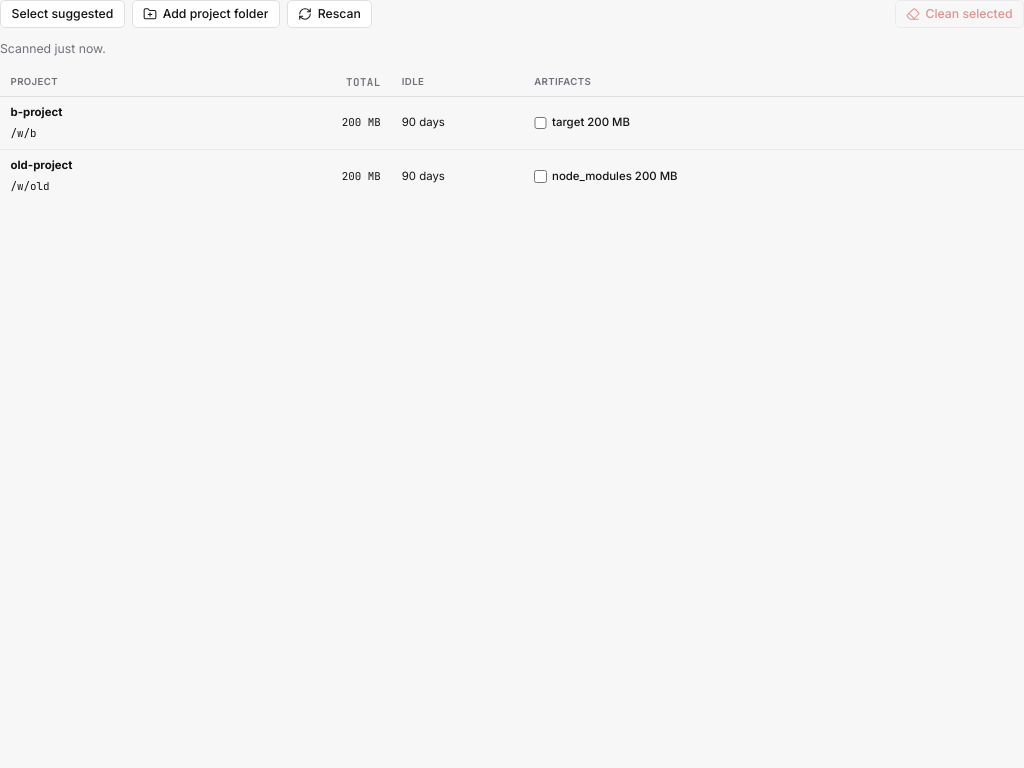
Test: after a clean › a rescanning tab saves the new scan
Click the checkbox labelled "node_modules 200 MB".
click(540, 176)  # box [534,170,547,183]
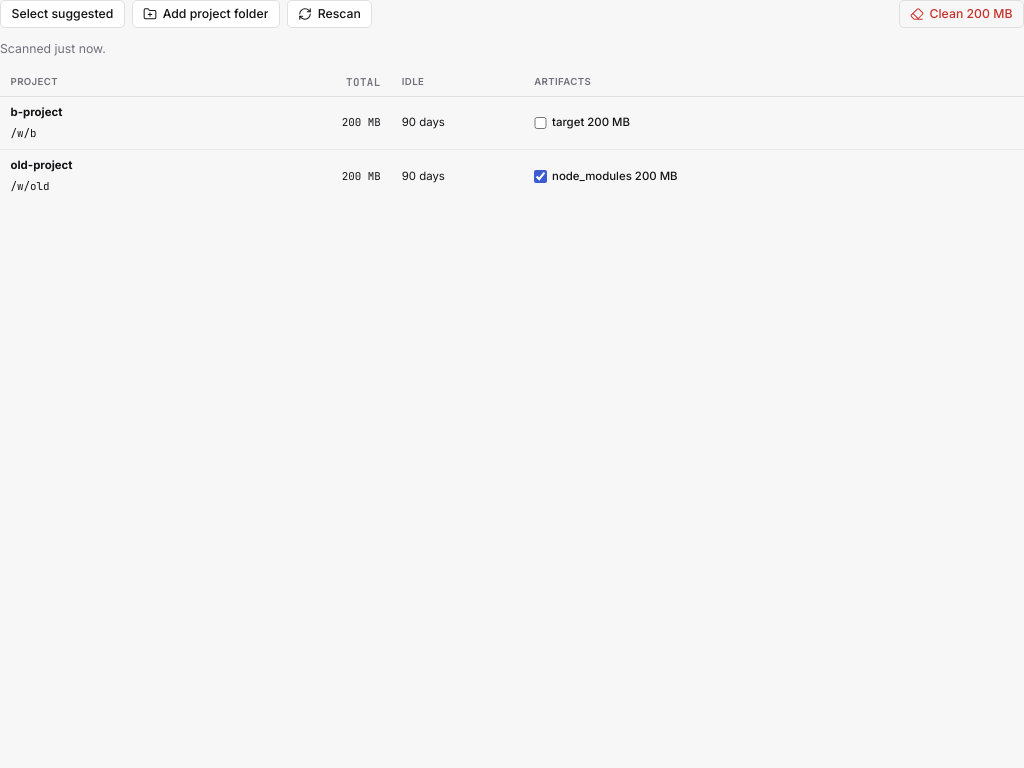
Result: the button "Clean 200 MB" is enabled
Click the button "Clean 200 MB".
click(961, 14)  # box [899,0,1023,28]
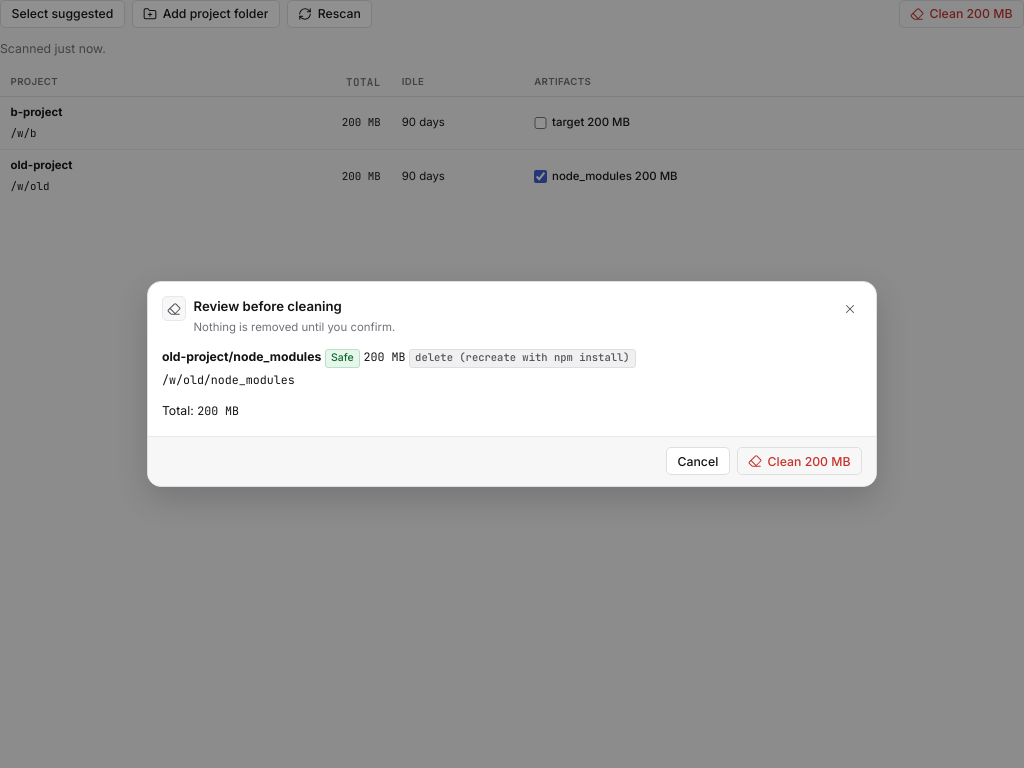
Click the button "Clean 200 MB".
click(799, 461)  # box [737,447,862,475]
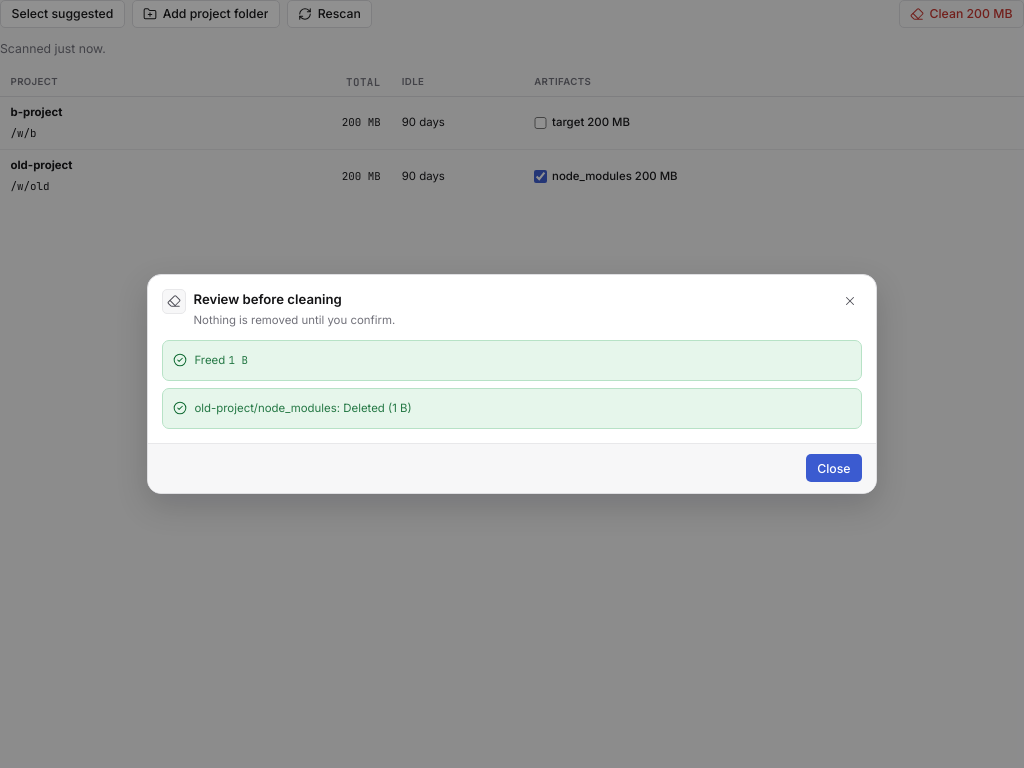
Click the button "Close".
click(834, 468)  # box [806,454,862,482]
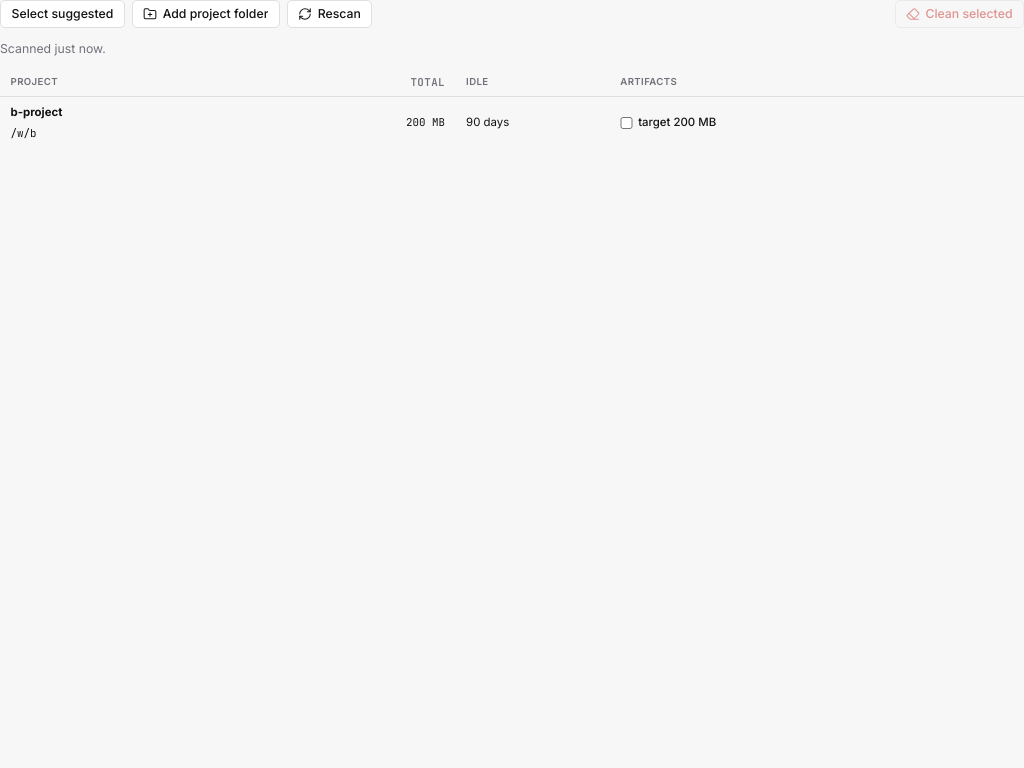
Result: the text "old-project" is gone
